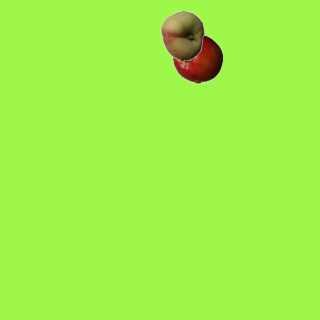Apple Braeburn: (172, 33, 222, 83)
Peach Flat: (157, 10, 207, 60)
